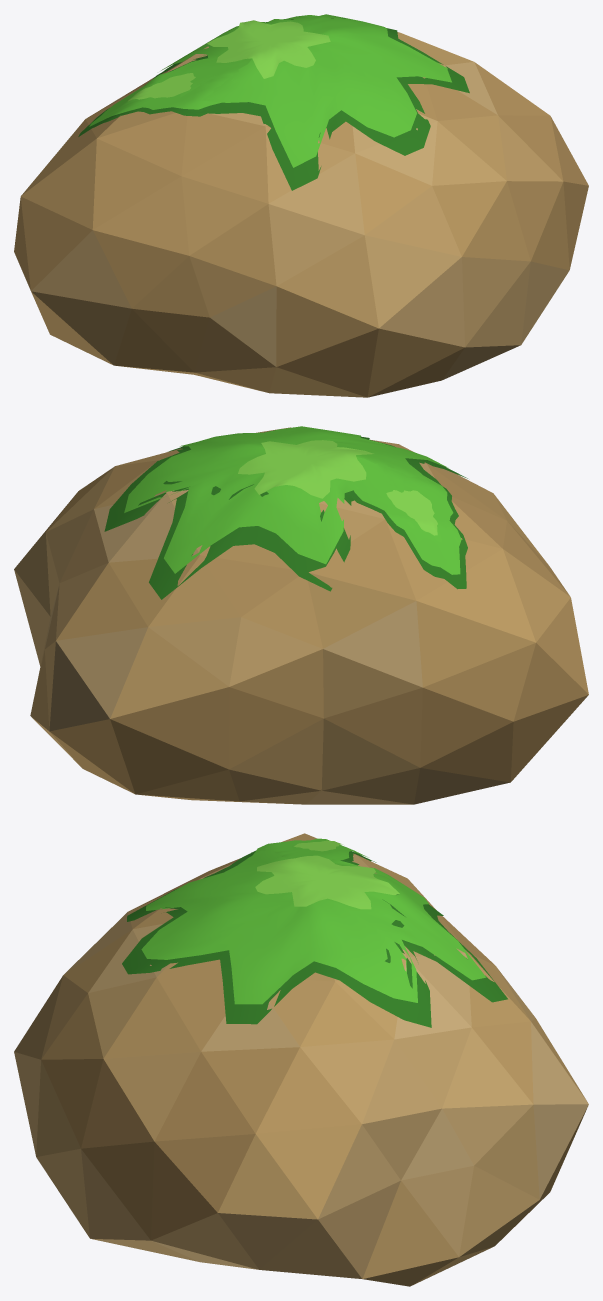
Rendered from rock_5_cap.glb.
The picture shows the model from 3 angles, top to bottom: view 1: azimuth 30°, elevation 25°; view 2: azimuth 150°, elevation 25°; view 3: azimuth 270°, elevation 25°; orthographic projection. The views are drawn at different scales.
Parts seen in each view (by area): view 1: rock_5_cap; view 2: rock_5_cap; view 3: rock_5_cap.
Boxes of the visible parts, x1,y1,x2,y2 form: rock_5_cap: (14,14,588,397); rock_5_cap: (14,426,588,804); rock_5_cap: (14,833,588,1286).
Size of the model in its own units: 4.02 by 2.14 by 3.42.
